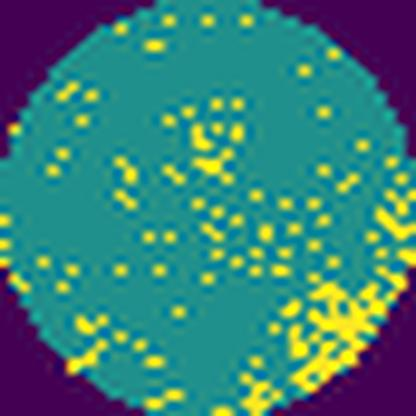Edge-Loc: (234, 229, 415, 416)
